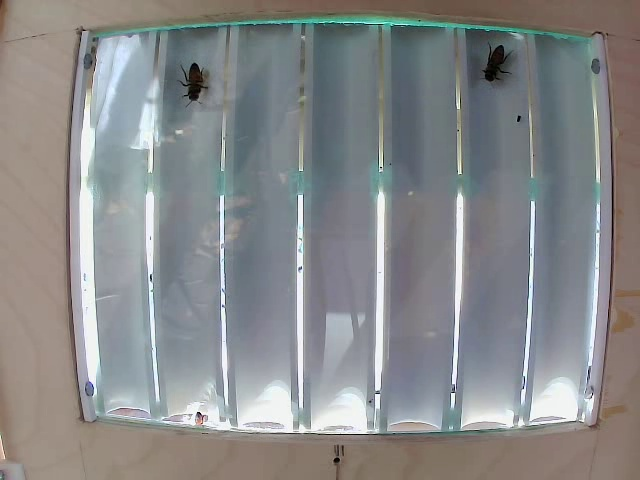bee: (180, 72, 234, 117), (489, 44, 504, 98)
